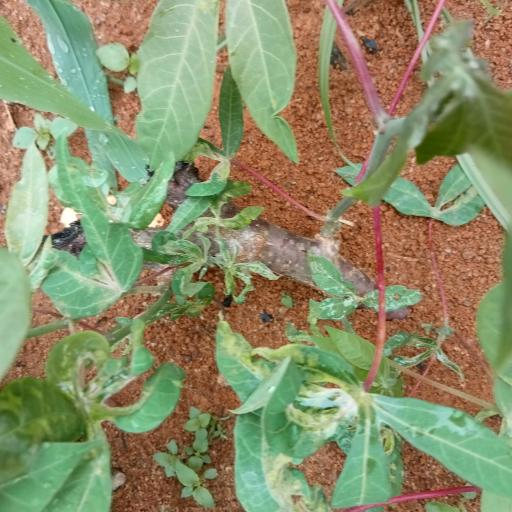Cassava_Mosaic: (0, 333, 174, 512), (216, 318, 368, 512)
